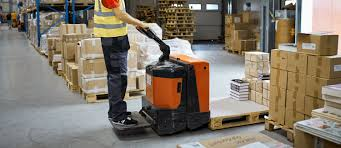Pallet Jack: (106, 24, 270, 140)
